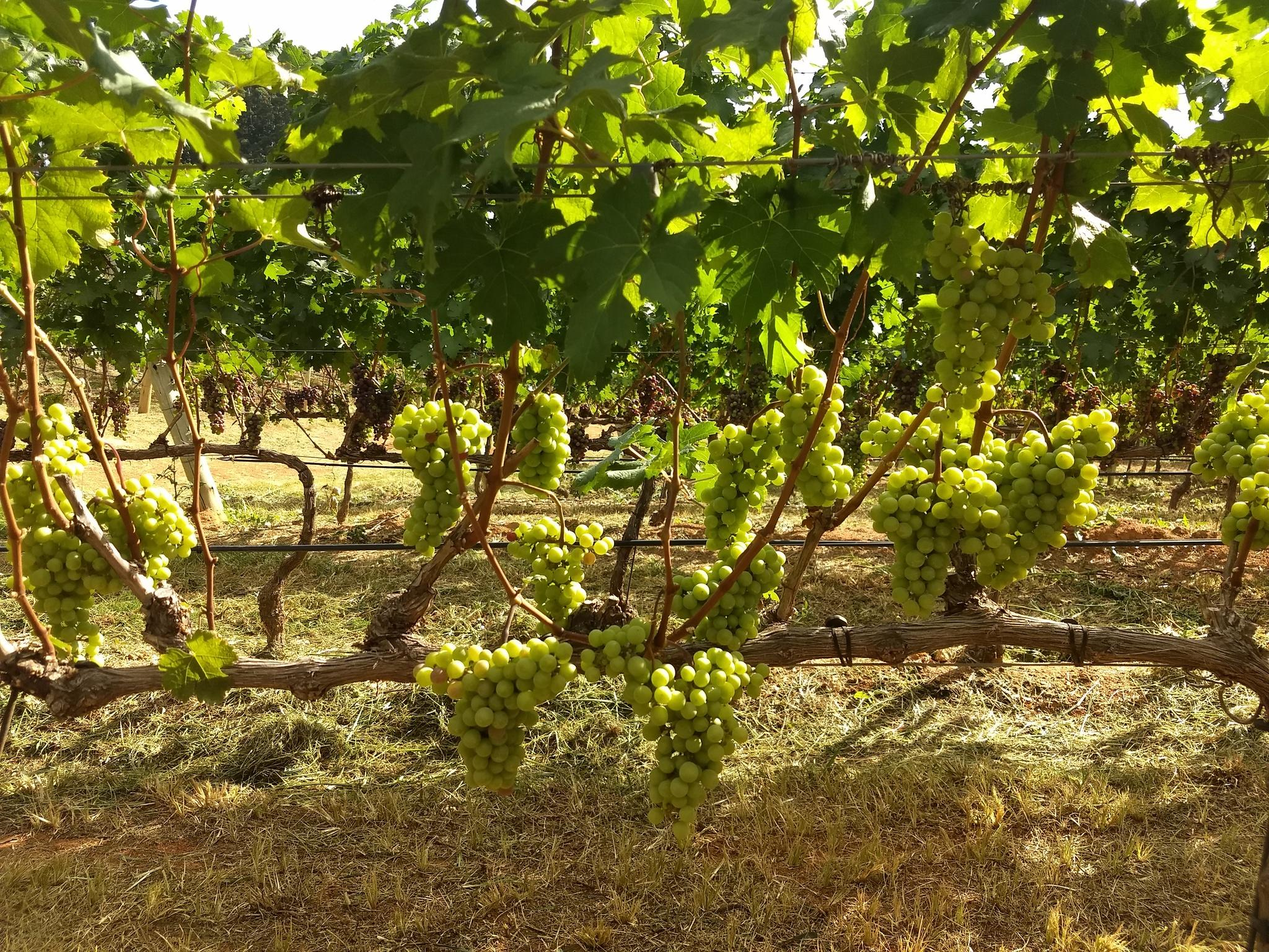Grape Unripe: (950, 409, 1112, 591), (413, 636, 574, 791), (937, 228, 1053, 436), (643, 653, 750, 838), (390, 399, 491, 558), (79, 474, 190, 594), (670, 542, 781, 652), (506, 516, 615, 625), (1197, 384, 1268, 551), (776, 365, 856, 507), (4, 403, 92, 530), (878, 465, 951, 616), (700, 415, 765, 551), (21, 526, 87, 645), (511, 393, 573, 491), (583, 615, 660, 690), (860, 411, 939, 468)
